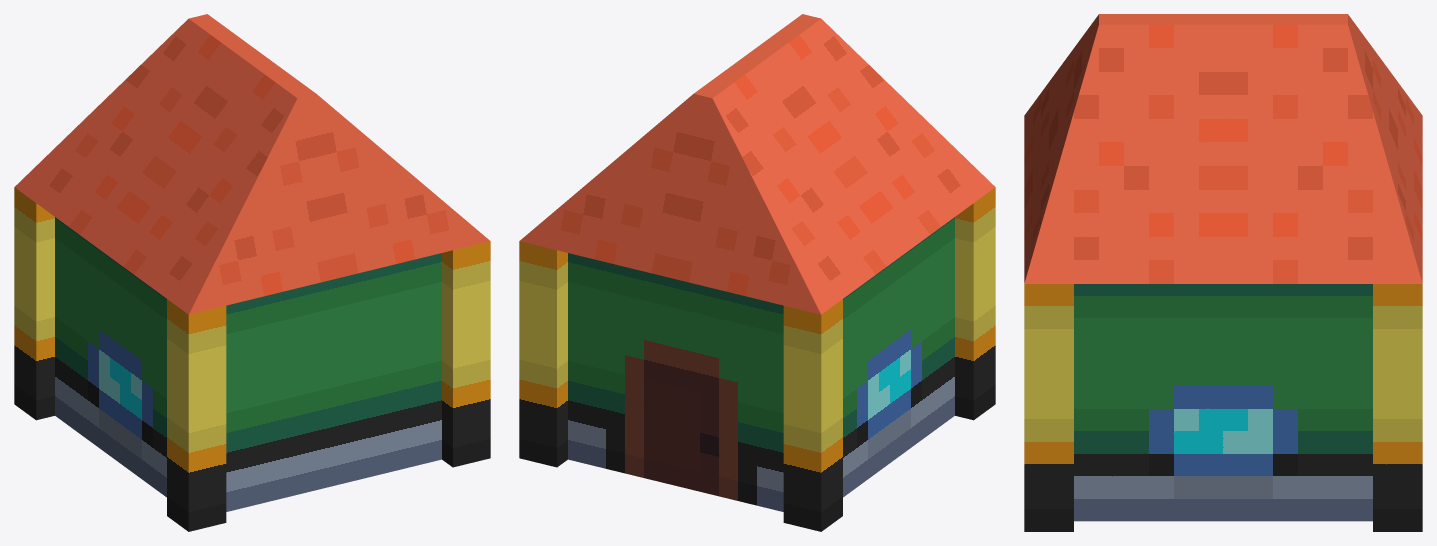
File: Rumah_Tipe1_T3.fbx
3 views of the same model, side by side, from view 1: azimuth 30°, elevation 25°; view 2: azimuth 150°, elevation 25°; view 3: azimuth 270°, elevation 25° (orthographic). The views are drawn at different scales.
Visible parts, largest first — view 1: cube_1, cube, cube_3, cube_5, cube_2; view 2: cube_1, cube, cube_2, cube_4, cube_3; view 3: cube_1, cube, cube_4, cube_5.
Part boxes in pixels (left/top/right/bottom): cube_1: left=14, top=14, right=489, bottom=314; cube: left=55, top=217, right=441, bottom=511; cube_3: left=167, top=299, right=226, bottom=531; cube_5: left=442, top=241, right=490, bottom=467; cube_2: left=14, top=187, right=54, bottom=420; cube_1: left=520, top=14, right=995, bottom=314; cube: left=568, top=217, right=954, bottom=511; cube_2: left=783, top=299, right=842, bottom=531; cube_4: left=519, top=241, right=567, bottom=467; cube_3: left=955, top=187, right=995, bottom=420; cube_1: left=1024, top=14, right=1422, bottom=283; cube: left=1074, top=284, right=1372, bottom=521; cube_4: left=1373, top=284, right=1422, bottom=531; cube_5: left=1024, top=284, right=1073, bottom=531.
Size of the model in its own units: 800 by 950 by 800.
1 material, 1 textured.
